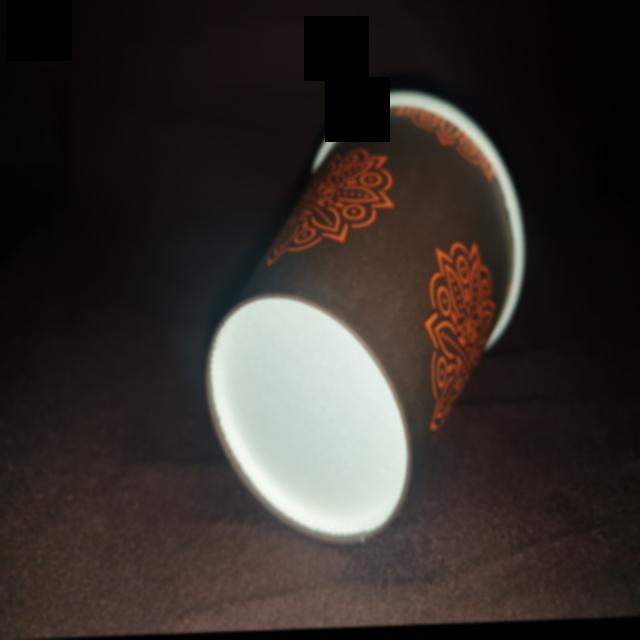cups: (203, 85, 529, 559)
